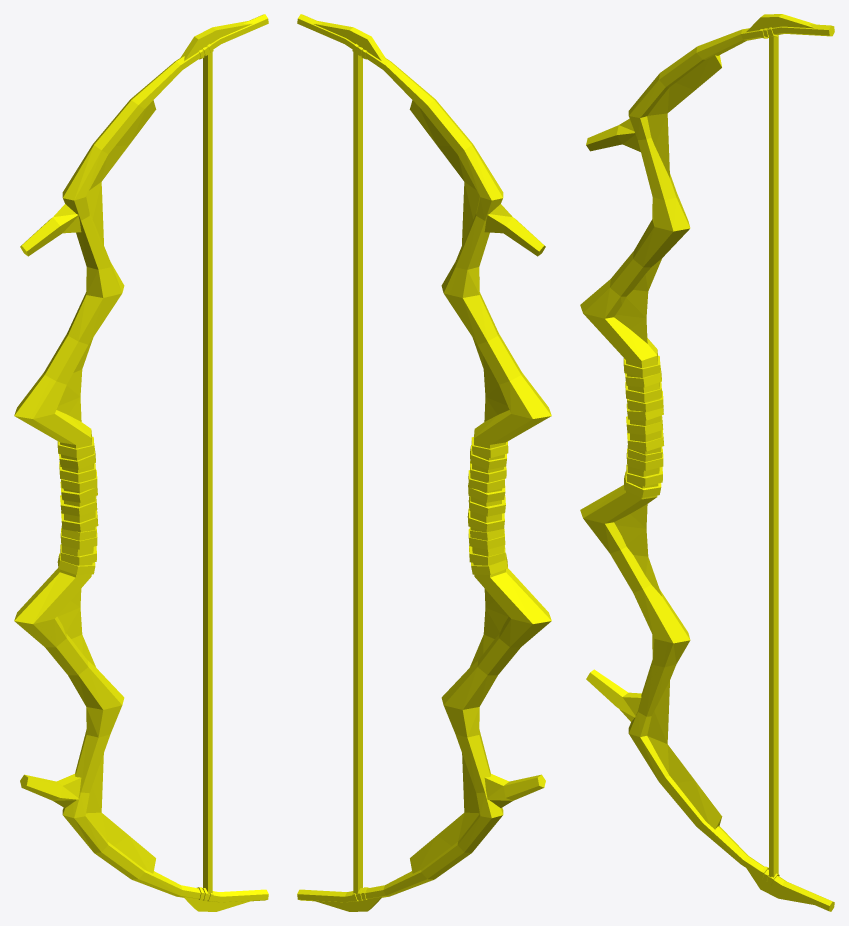
Rendered from _bow_3.glb.
3 renders of one model, left to right at view 1: azimuth 30°, elevation 25°; view 2: azimuth 150°, elevation 25°; view 3: azimuth 330°, elevation 25°, orthographic.
Visible parts, largest first — view 1: bow_3; view 2: bow_3; view 3: bow_3.
Part boxes in pixels (left/top/right/bottom): bow_3: left=14, top=14, right=268, bottom=911; bow_3: left=297, top=14, right=551, bottom=911; bow_3: left=580, top=14, right=834, bottom=911.
Bounding box in the file's own units: 0.2812 × 0.9435 × 0.0353.
Materials: 1 (1 with a texture image).
